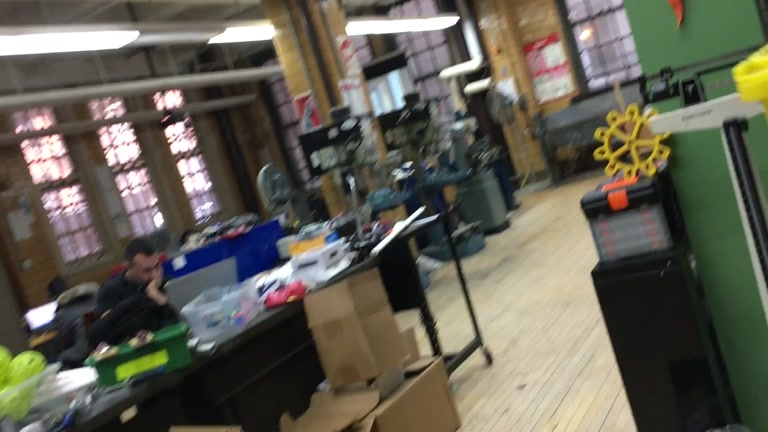gear: (592, 104, 672, 182)
